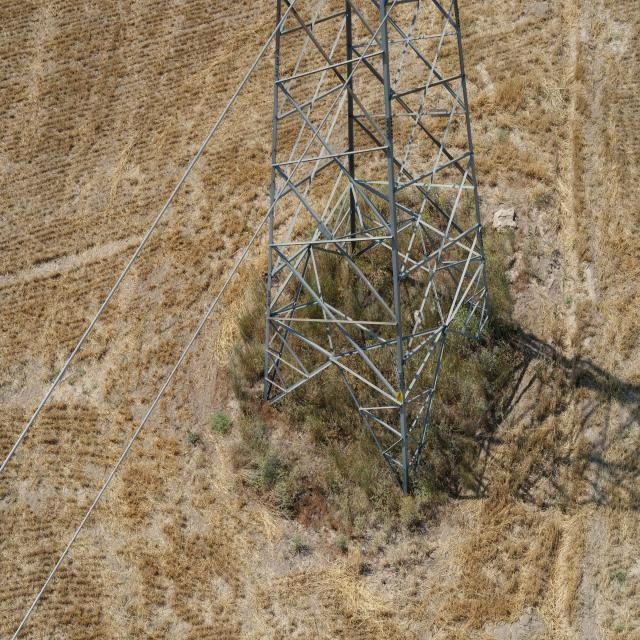direk: (257, 0, 492, 496)
